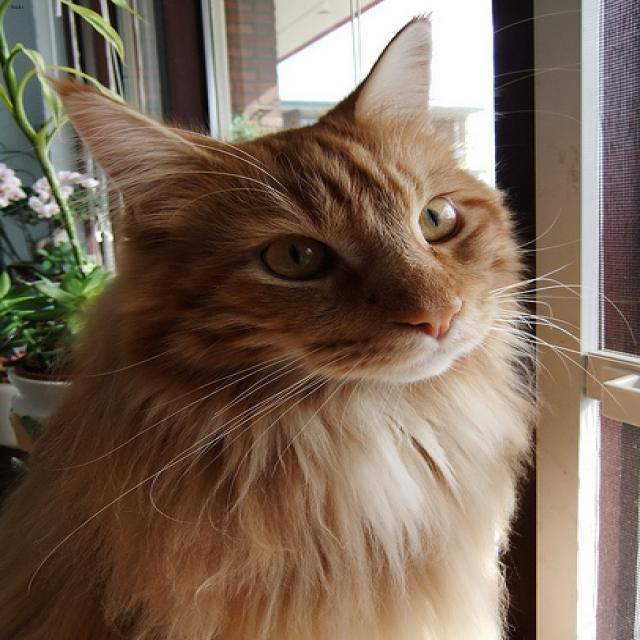cat: (51, 16, 504, 382)
